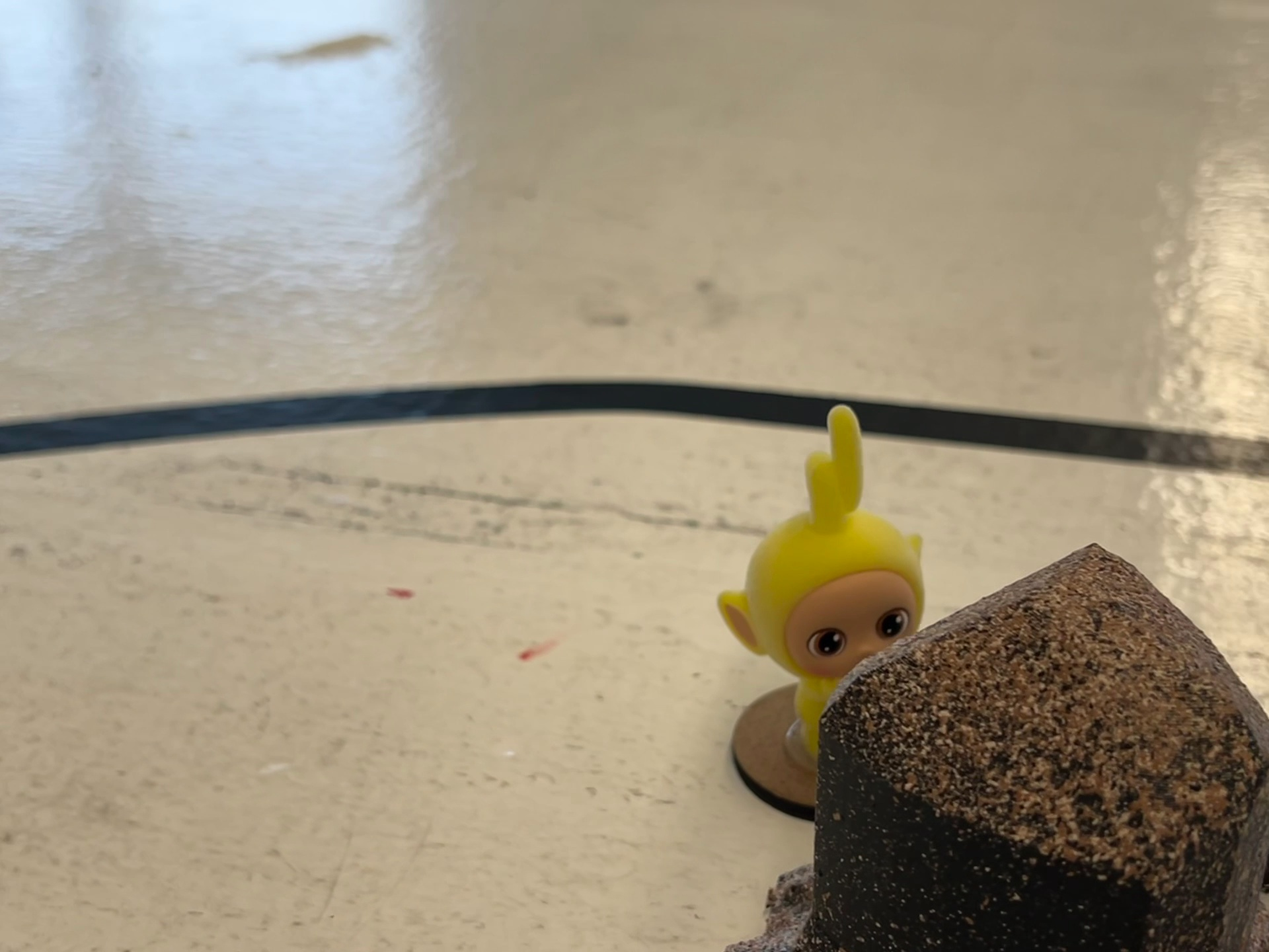teletubby: (718, 405, 923, 759)
